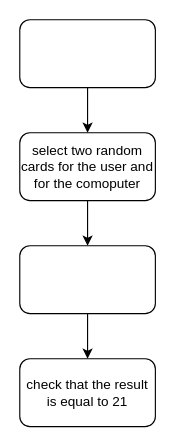
Some shapes in this 175 by 446 pixel diagram are drawn without their labels. The centre of each missing label's shape, as x and y in pixels:
"add up the value of the first cards" belongs at point (87, 279).
"START" belongs at point (87, 53).
